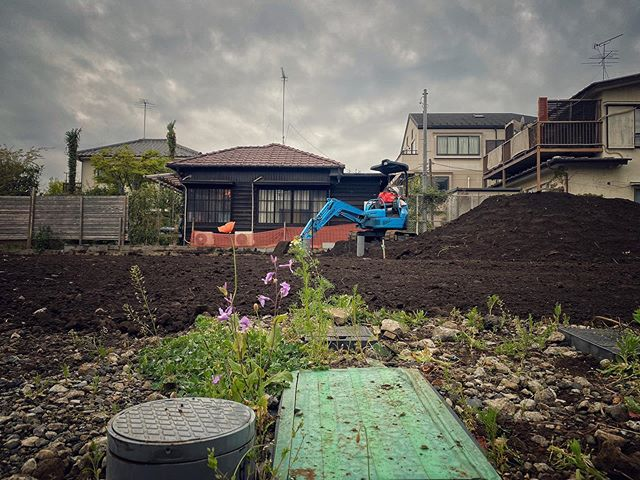building: (492, 69, 640, 196), (175, 138, 347, 238), (408, 107, 520, 212)
dirt: (17, 203, 599, 324)
rocks: (9, 334, 597, 476)
sky: (1, 1, 620, 142)
